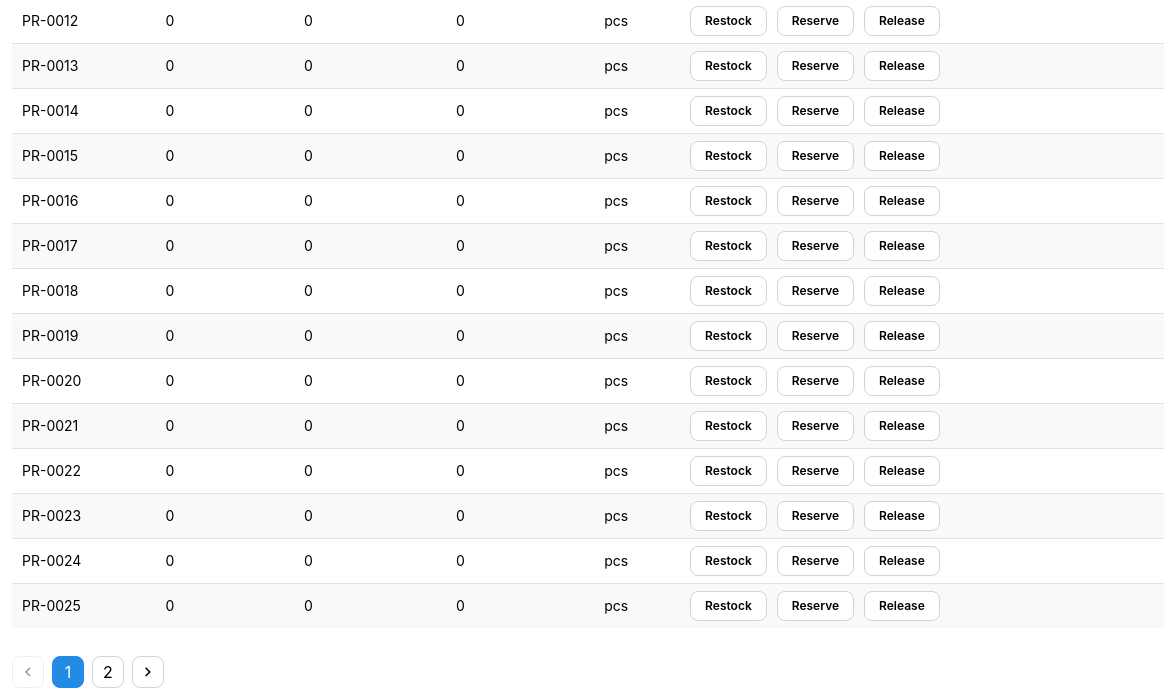
Test: StockScreen › pages through more than 25 Stock records
(page scrolled)
Expected: the cell "PR-0026" is not shown
Step 1. Click the button "2" → (108, 672), box x1=92 y1=656 x2=124 y2=687
(page scrolled)
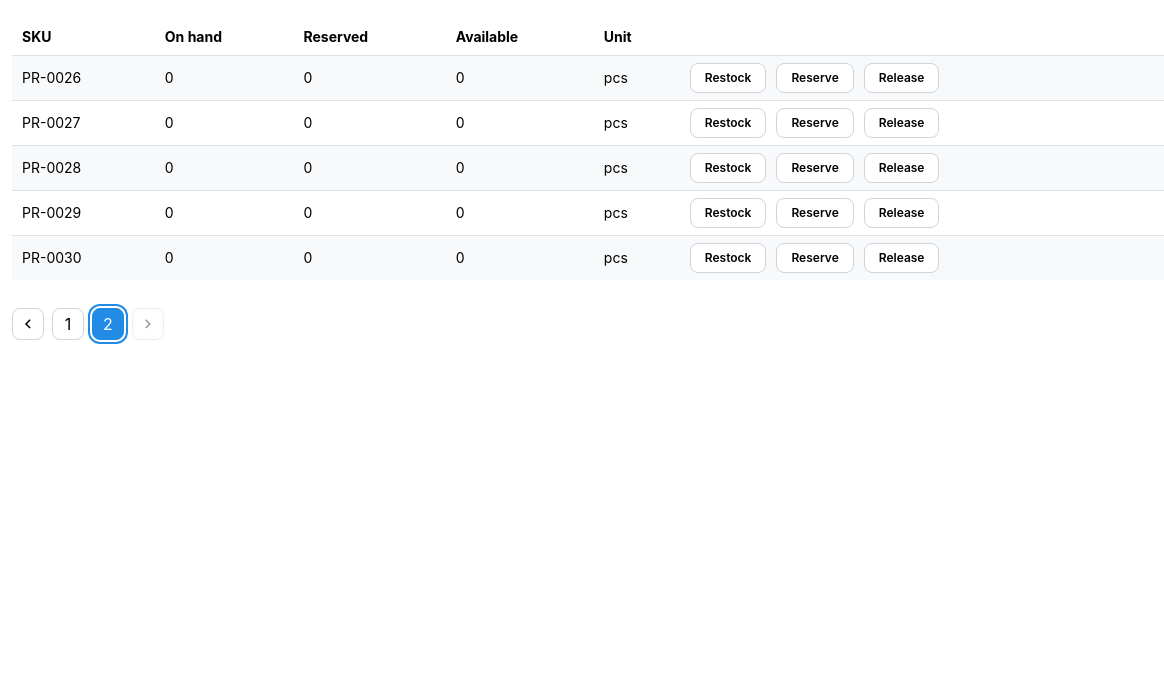
Expected: the cell "PR-0026" is shown, x1=12 y1=55 x2=155 y2=100
